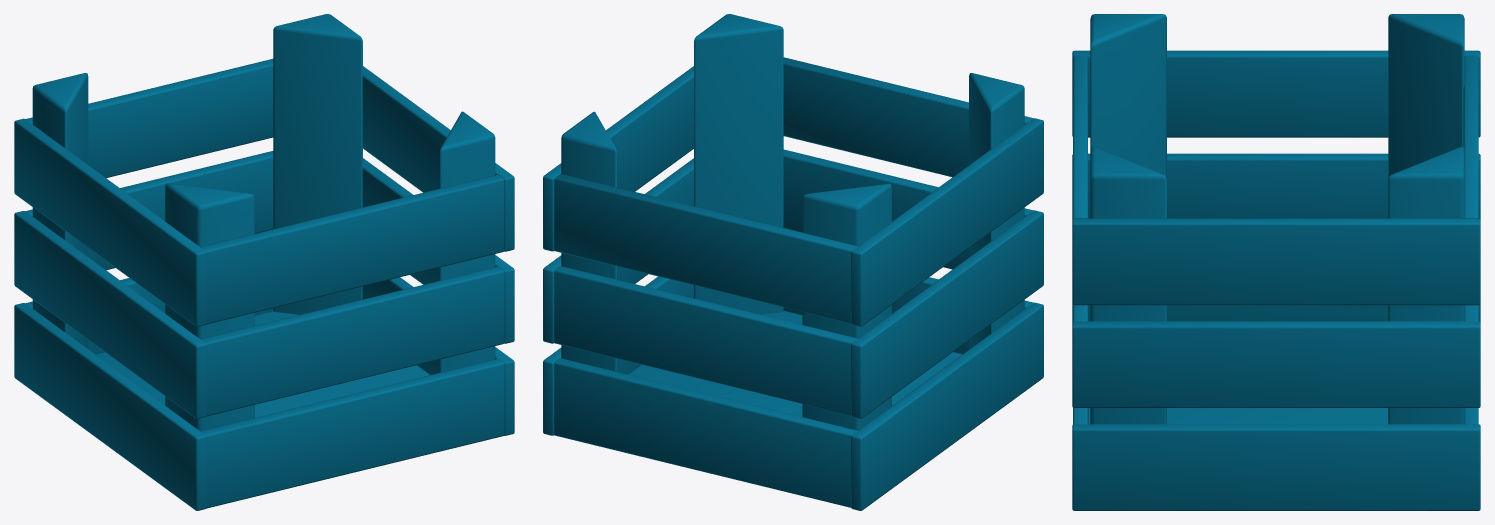
The picture shows the model from 3 angles, left to right: view 1: azimuth 30°, elevation 25°; view 2: azimuth 150°, elevation 25°; view 3: azimuth 270°, elevation 25°; orthographic projection. The views are drawn at different scales.
Visible parts, largest first — view 1: low_3, low_2, low_4, low_1; view 2: low_3, low_2, low_4, low_1; view 3: low_2, low_4, low_3, low_1.
Part boxes in pixels (bbox=[...]): low_3: bbox=[25, 59, 504, 508]; low_2: bbox=[14, 66, 514, 510]; low_4: bbox=[32, 14, 495, 431]; low_1: bbox=[96, 311, 429, 417]; low_3: bbox=[554, 57, 1033, 507]; low_2: bbox=[543, 66, 1043, 510]; low_4: bbox=[561, 14, 1024, 430]; low_1: bbox=[628, 310, 961, 416]; low_2: bbox=[1072, 50, 1480, 510]; low_4: bbox=[1090, 14, 1464, 424]; low_3: bbox=[1073, 55, 1478, 424]; low_1: bbox=[1088, 408, 1388, 424].
Size of the model in its own units: 53.83 by 47.84 by 53.48.
